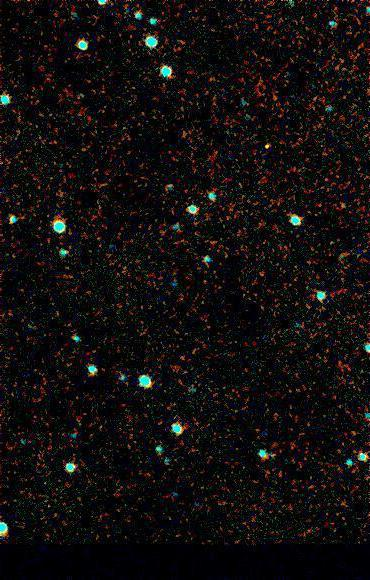star: (254, 134, 284, 164)
